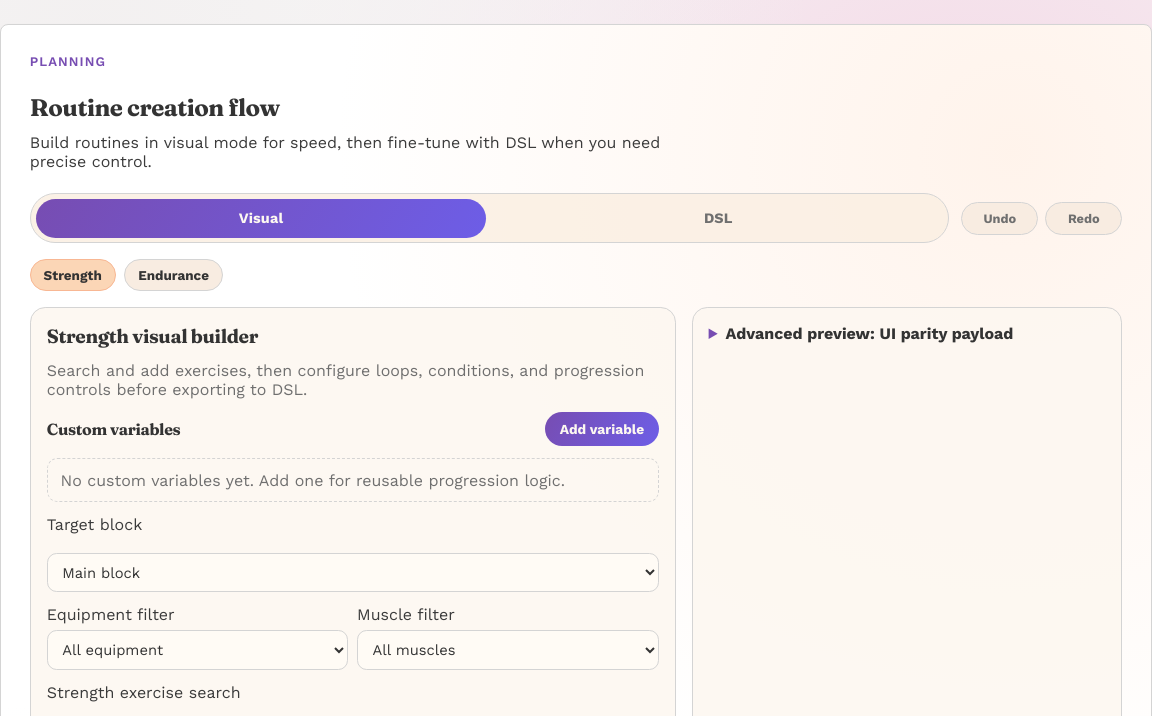
RoutineCreationFlow › uses human-readable DSL authoring text instead of JSON-centric text in DSL mode
Step 1. Click the tab "DSL" → point(718, 218), box [493, 199, 944, 238]
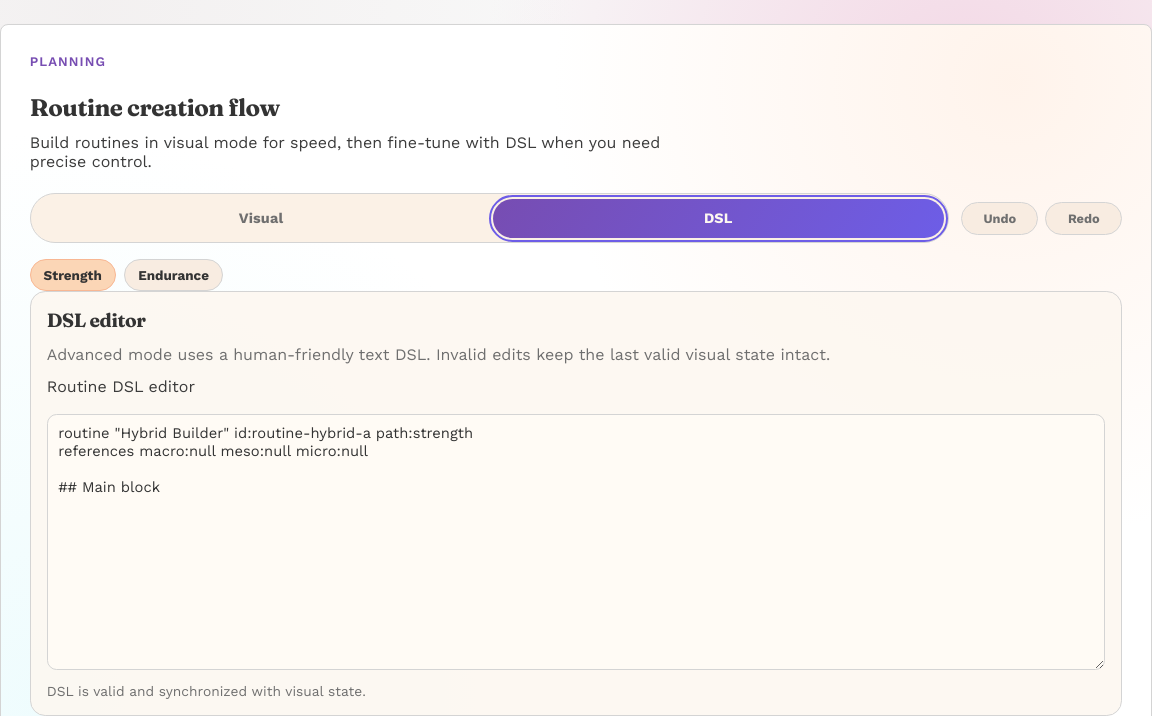
Step 2. Replace the text in the text box labelled "Routine DSL editor" with "routine \"Hybrid Builder\" id:routine-hybrid-a path:endurance references macro:null meso:null micro:null Warmup - 10m 60% 90-100rpm Main set 2x - 4m 100% 40-50rpm, torque focus - 2m recovery at 40% Cool" → point(576, 542), box [47, 414, 1105, 670]
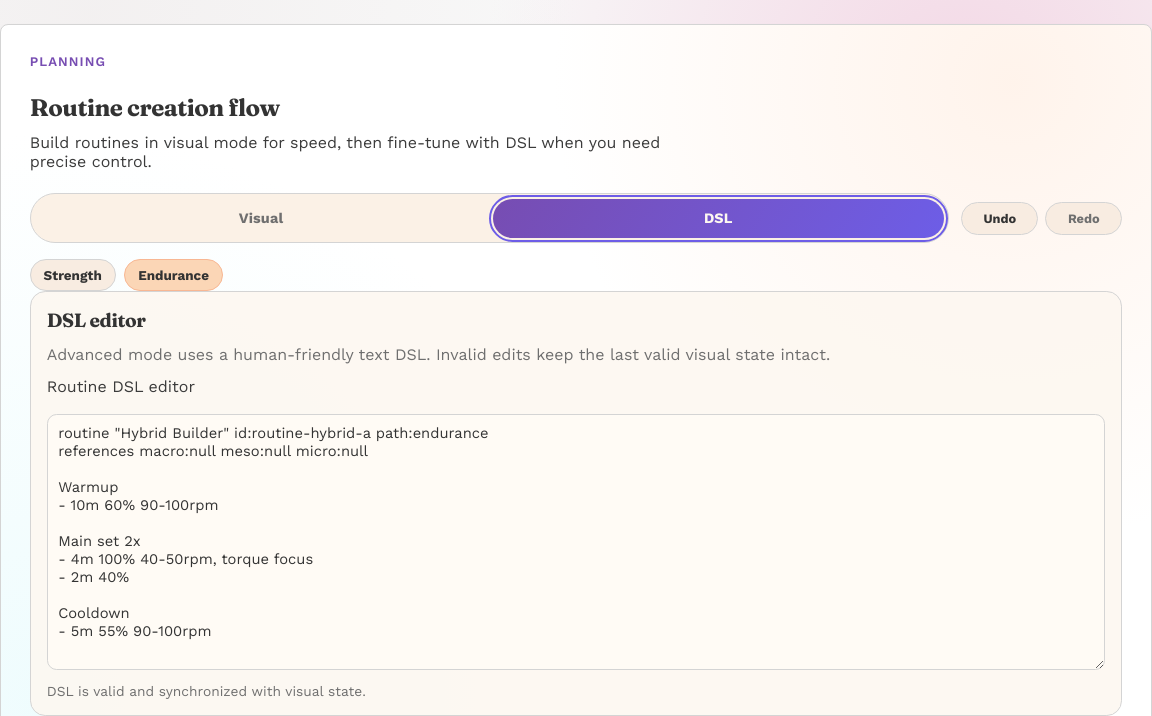
Step 3. Click the tab "Visual" → point(261, 218), box [36, 199, 486, 238]
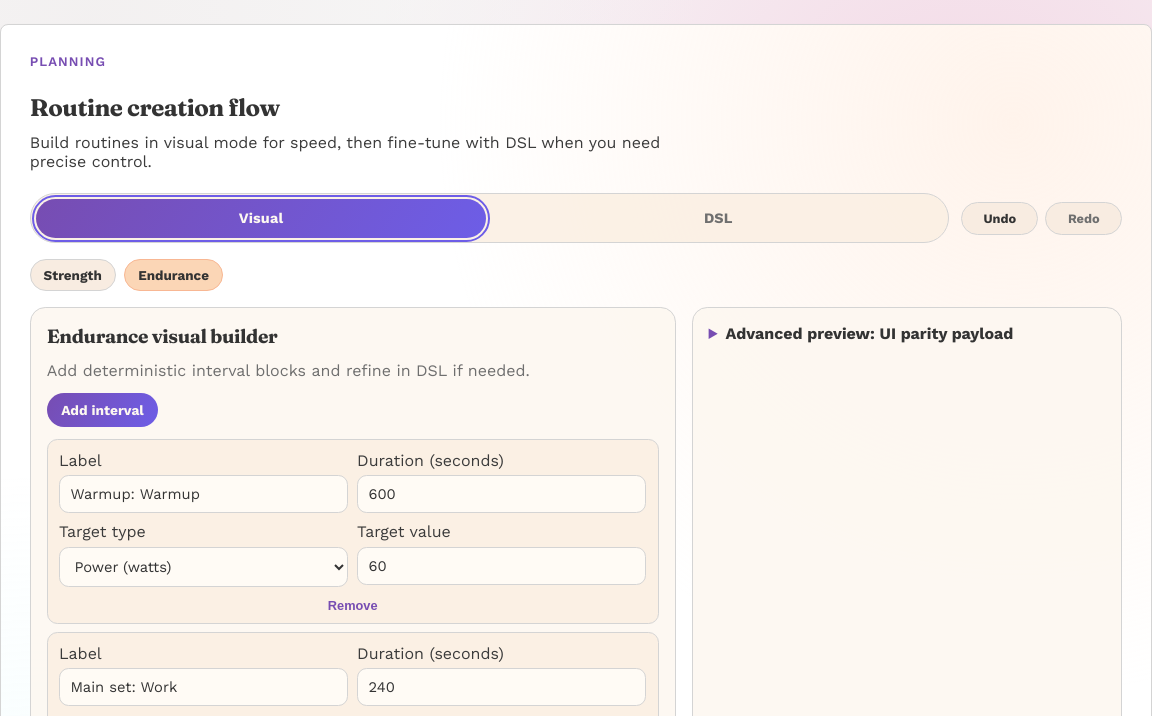
Expected: the 2nd field showing "Main set: Work" is shown, [59, 668, 348, 706]
